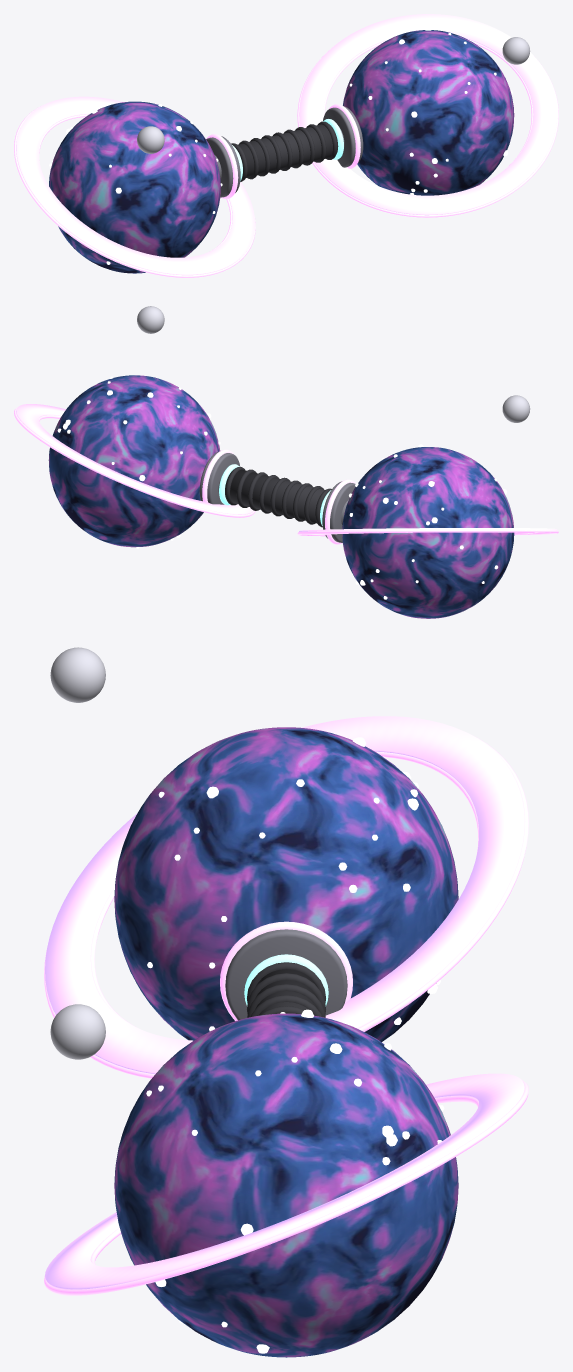
File: dm_cosmic5t.glb
The picture shows the model from 3 angles, top to bottom: view 1: azimuth 30°, elevation 25°; view 2: azimuth 150°, elevation 25°; view 3: azimuth 270°, elevation 25°; orthographic projection. The views are drawn at different scales.
Parts seen in each view (by area): view 1: Cosmic5t_Planet.001, Cosmic5t_Planet, Cosmic5t_Ring.001, Cosmic5t_Ring, Cosmic5t_Grip, Cosmic5t_RingGlow.003, Cosmic5t_RingGlow.001, Cosmic5t_Collar.001, Cosmic5t_Collar, Cosmic5t_Moon.001, Cosmic5t_Moon, Cosmic5t_RingGlow.002 (+2 smaller); view 2: Cosmic5t_Planet, Cosmic5t_Planet.001, Cosmic5t_Ring.001, Cosmic5t_Grip, Cosmic5t_RingGlow.001, Cosmic5t_RingGlow.003, Cosmic5t_Collar.001, Cosmic5t_Collar, Cosmic5t_Moon, Cosmic5t_Moon.001, Cosmic5t_Ring, Cosmic5t_CollarGlow; view 3: Cosmic5t_Planet.001, Cosmic5t_Planet, Cosmic5t_Ring, Cosmic5t_Ring.001, Cosmic5t_Collar, Cosmic5t_RingGlow.003, Cosmic5t_RingGlow.001, Cosmic5t_Moon.001, Cosmic5t_Moon, Cosmic5t_CollarGlow, Cosmic5t_RingGlow, Cosmic5t_Grip (+1 smaller).
Part boxes in pixels (left/top/right/bottom): Cosmic5t_Planet.001: left=343, top=30, right=514, bottom=195; Cosmic5t_Planet: left=49, top=101, right=220, bottom=273; Cosmic5t_Ring.001: left=299, top=14, right=557, bottom=215; Cosmic5t_Ring: left=16, top=96, right=255, bottom=275; Cosmic5t_Grip: left=238, top=124, right=338, bottom=177; Cosmic5t_RingGlow.003: left=297, top=46, right=558, bottom=217; Cosmic5t_RingGlow.001: left=14, top=105, right=255, bottom=277; Cosmic5t_Collar.001: left=323, top=106, right=363, bottom=167; Cosmic5t_Collar: left=206, top=136, right=240, bottom=197; Cosmic5t_Moon.001: left=502, top=37, right=530, bottom=64; Cosmic5t_Moon: left=137, top=126, right=164, bottom=153; Cosmic5t_RingGlow.002: left=323, top=39, right=533, bottom=169; Cosmic5t_Planet: left=342, top=447, right=514, bottom=618; Cosmic5t_Planet.001: left=48, top=375, right=220, bottom=547; Cosmic5t_Ring.001: left=16, top=404, right=253, bottom=514; Cosmic5t_Grip: left=225, top=469, right=325, bottom=523; Cosmic5t_RingGlow.001: left=297, top=529, right=558, bottom=536; Cosmic5t_RingGlow.003: left=14, top=407, right=255, bottom=517; Cosmic5t_Collar.001: left=199, top=451, right=240, bottom=504; Cosmic5t_Collar: left=322, top=481, right=355, bottom=542; Cosmic5t_Moon: left=502, top=395, right=530, bottom=422; Cosmic5t_Moon.001: left=137, top=306, right=164, bottom=333; Cosmic5t_Ring: left=299, top=528, right=557, bottom=534; Cosmic5t_CollarGlow: left=325, top=479, right=355, bottom=544; Cosmic5t_Planet.001: left=114, top=1013, right=458, bottom=1357; Cosmic5t_Planet: left=114, top=727, right=458, bottom=1042; Cosmic5t_Ring: left=45, top=716, right=524, bottom=1074; Cosmic5t_Ring.001: left=45, top=1073, right=524, bottom=1289; Cosmic5t_Collar: left=225, top=929, right=347, bottom=1020; Cosmic5t_RingGlow.003: left=44, top=1079, right=528, bottom=1295; Cosmic5t_RingGlow.001: left=44, top=732, right=528, bottom=1078; Cosmic5t_Moon.001: left=50, top=1004, right=105, bottom=1059; Cosmic5t_Moon: left=50, top=647, right=105, bottom=702; Cosmic5t_CollarGlow: left=220, top=921, right=352, bottom=1020; Cosmic5t_RingGlow: left=90, top=751, right=478, bottom=1028; Cosmic5t_Grip: left=254, top=969, right=318, bottom=1015.
Size of the model in its own units: 6.84 by 2.35 by 2.79.
Materials: 9 (2 with a texture image).
